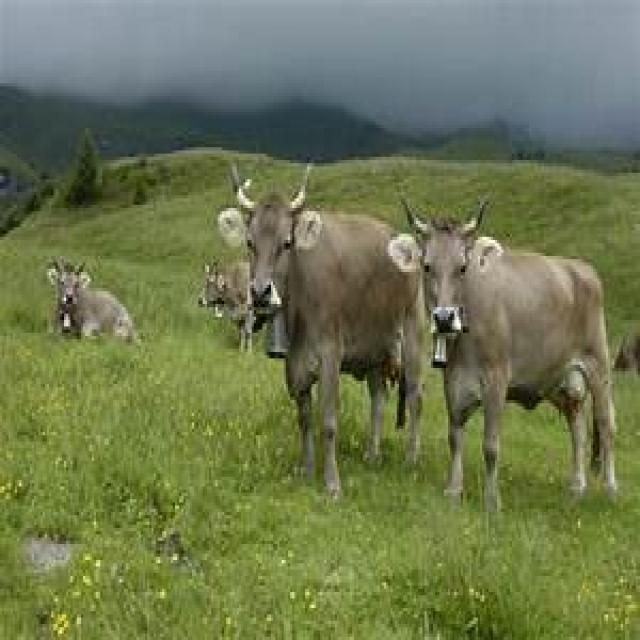cow: (382, 203, 622, 458), (229, 170, 405, 478), (47, 240, 131, 363)
